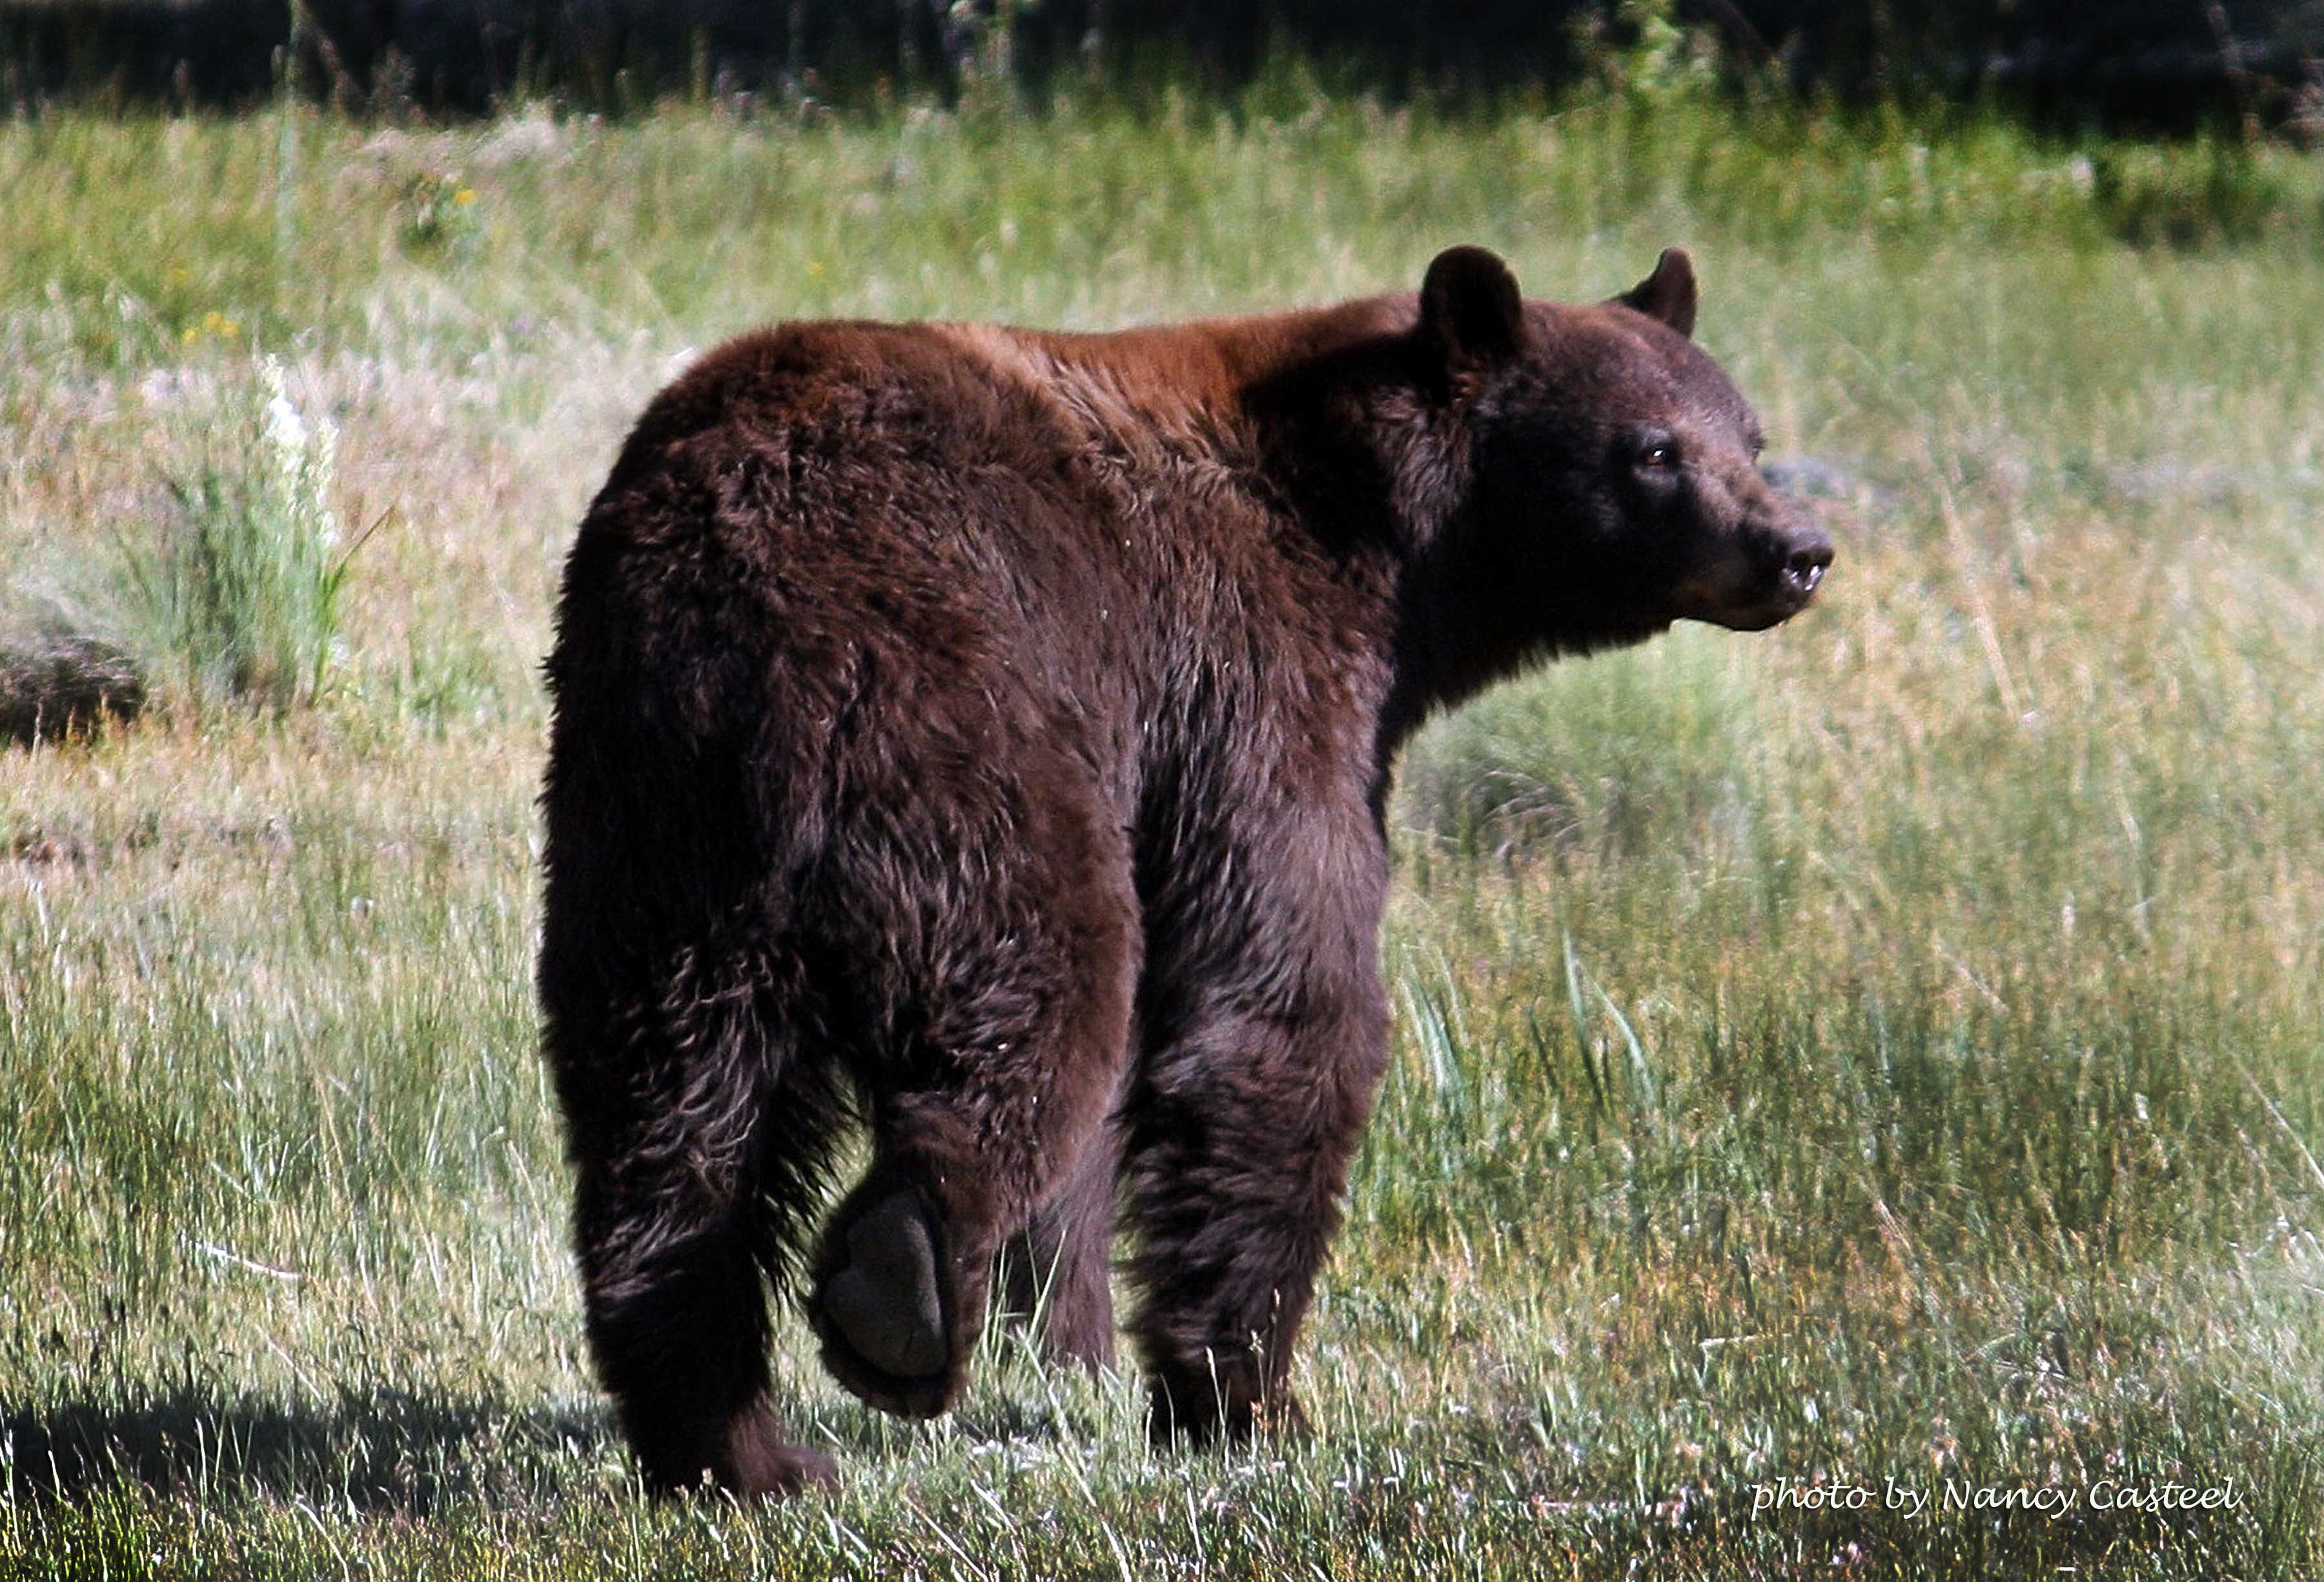bear: (539, 230, 1849, 1508)
